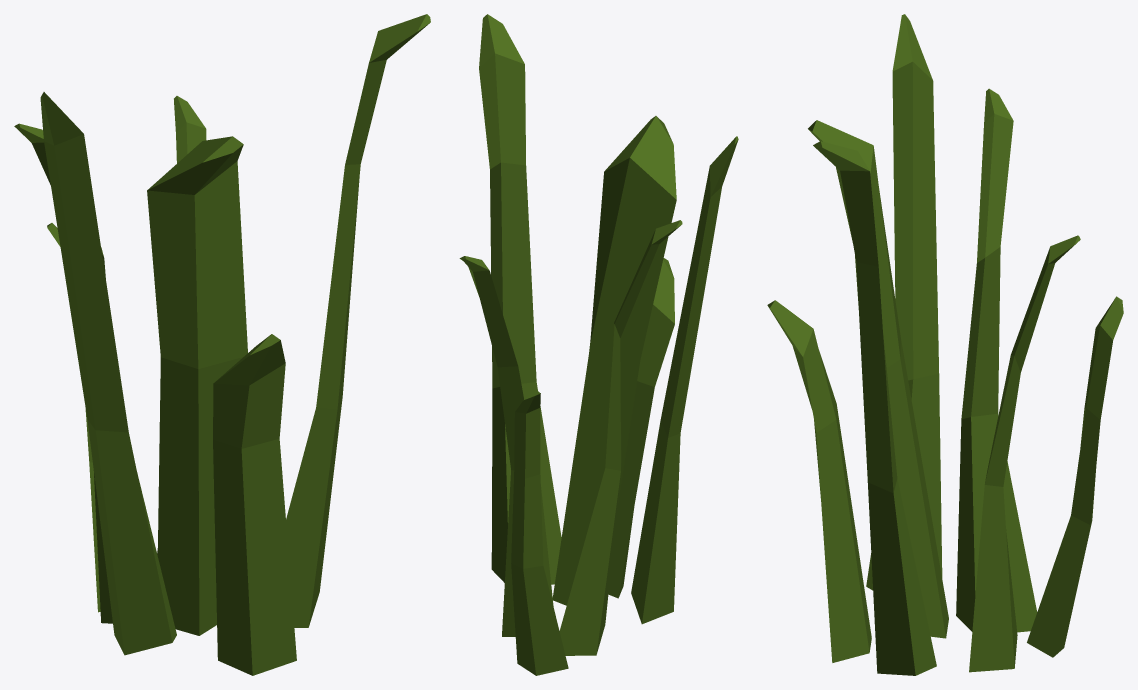
File: SM_Env_Reeds_03.fbx
The picture shows the model from 3 angles, left to right: view 1: azimuth 30°, elevation 25°; view 2: azimuth 150°, elevation 25°; view 3: azimuth 270°, elevation 25°; orthographic projection. The views are drawn at different scales.
Visible parts, largest first — view 1: Plane.001, Plane.003, Plane, Plane.002, Plane.004, Plane.006, Plane.005; view 2: Plane.001, Plane.002, Plane.003, Plane.005, Plane.004, Plane, Plane.006; view 3: Plane.002, Plane.003, Plane.004, Plane, Plane.001, Plane.006, Plane.005.
Boxes of the visible parts, left/top/right/bottom form: Plane.001: left=147, top=136, right=247, bottom=635; Plane.003: left=40, top=92, right=176, bottom=655; Plane: left=213, top=334, right=296, bottom=675; Plane.002: left=286, top=14, right=430, bottom=627; Plane.004: left=14, top=123, right=112, bottom=623; Plane.006: left=157, top=96, right=206, bottom=554; Plane.005: left=47, top=223, right=100, bottom=612; Plane.001: left=552, top=116, right=676, bottom=605; Plane.002: left=479, top=14, right=561, bottom=584; Plane.003: left=631, top=136, right=738, bottom=624; Plane.005: left=511, top=389, right=568, bottom=675; Plane.004: left=559, top=220, right=682, bottom=655; Plane: left=608, top=258, right=674, bottom=598; Plane.006: left=459, top=256, right=553, bottom=636; Plane.002: left=813, top=141, right=936, bottom=675; Plane.003: left=866, top=14, right=942, bottom=590; Plane.004: left=956, top=88, right=1037, bottom=632; Plane: left=767, top=300, right=871, bottom=662; Plane.001: left=808, top=120, right=948, bottom=638; Plane.006: left=969, top=235, right=1080, bottom=672; Plane.005: left=1027, top=296, right=1123, bottom=657.
Size of the model in its own units: 91.95 by 162 by 88.55.
